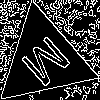M: (19, 34, 79, 96)
